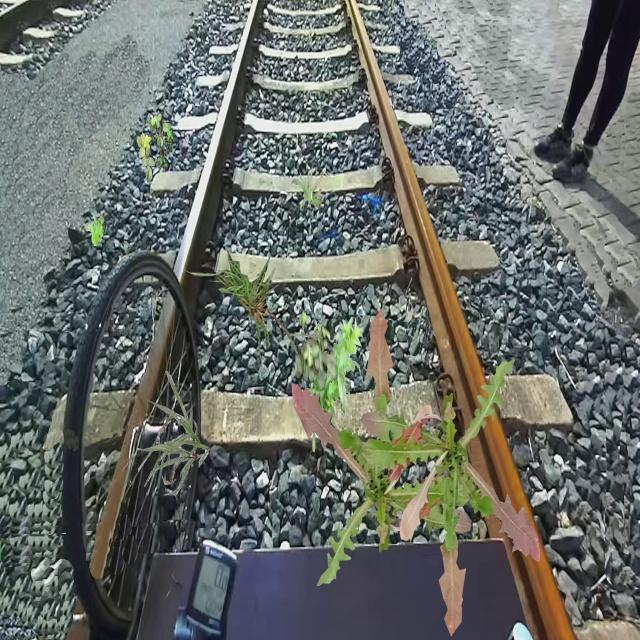Plant: (292, 308, 472, 586), (361, 359, 541, 637), (180, 250, 324, 370), (299, 309, 364, 452), (138, 371, 211, 496), (294, 325, 338, 392), (137, 110, 174, 184), (291, 166, 324, 212), (84, 214, 105, 247)
